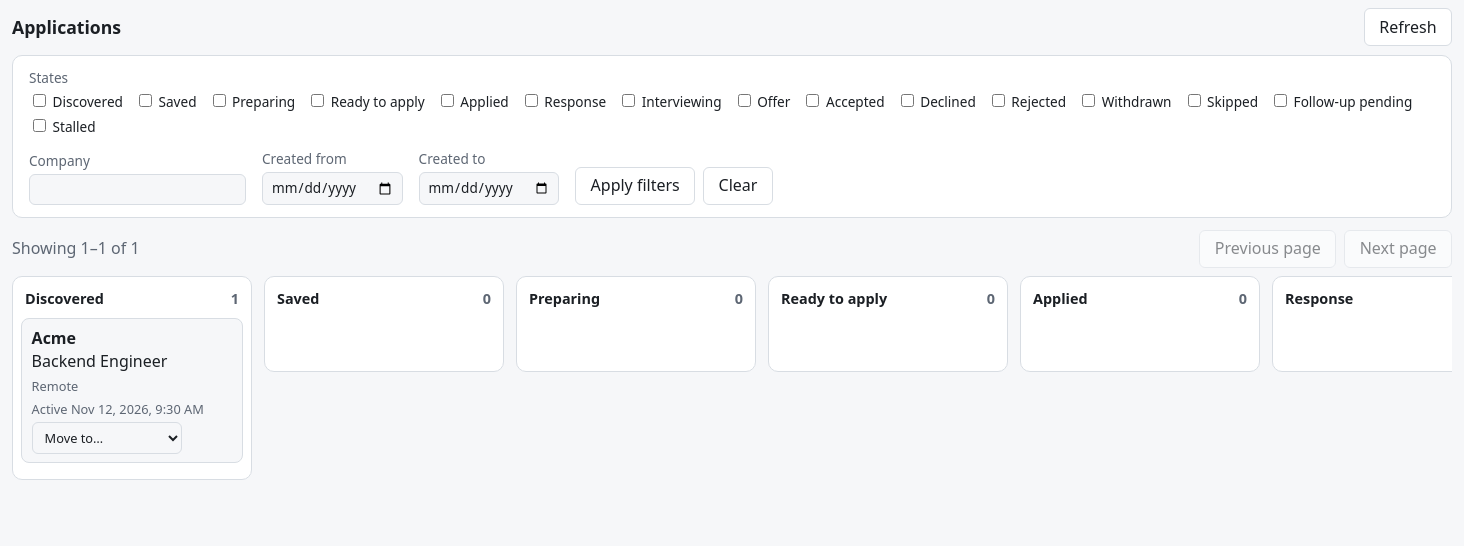
Test case: moving a card › shows an applied move at once, from the card the API returned
The image size is (1464, 546).
Select "Saved" in the dropdown named "Move Acme — Backend Engineer to" at (107, 438), box top-left (32, 422), bottom-right (182, 454)
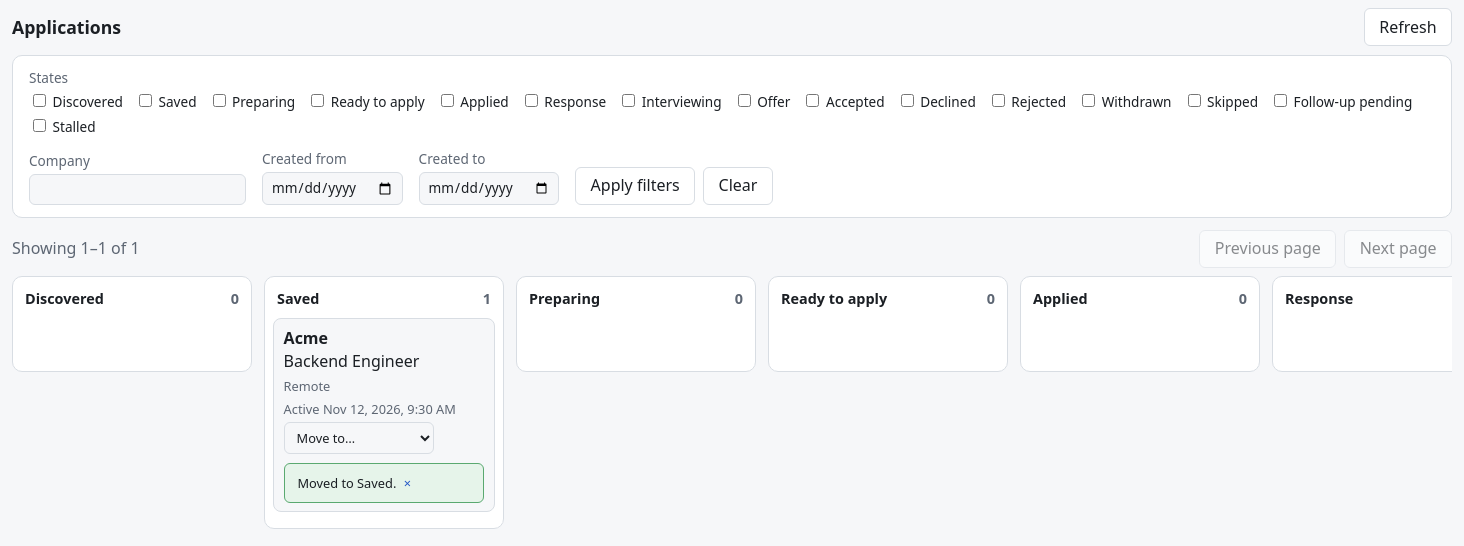
Result: the text with test id "column-total" reads "1" at top-left (483, 289), bottom-right (491, 308)
Result: the 1st text with test id "column-total" reads "0" at top-left (231, 289), bottom-right (239, 308)
Result: the message with test id "move-feedback" shows "Moved to Saved" at top-left (284, 464), bottom-right (484, 503)
